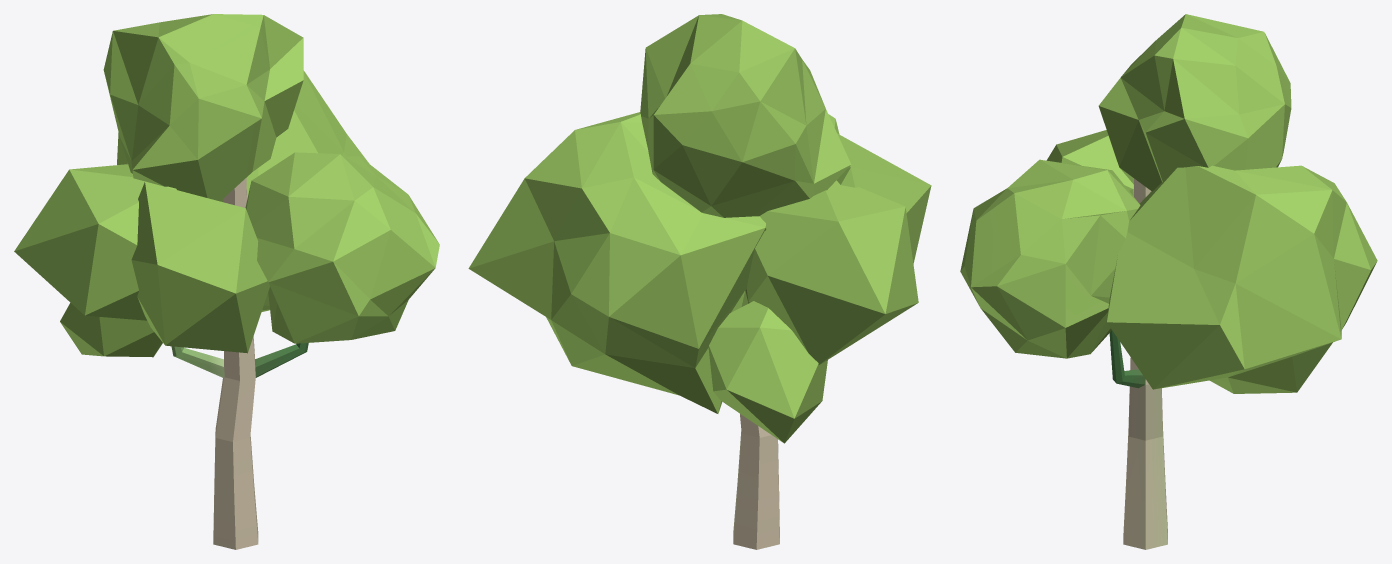
Rendered from tree_h.gltf.
3 renders of one model, left to right at view 1: azimuth 30°, elevation 25°; view 2: azimuth 150°, elevation 25°; view 3: azimuth 270°, elevation 25°, orthographic. The views are drawn at different scales.
Visible parts, largest first — view 1: tree_h001; view 2: tree_h001; view 3: tree_h001.
Part boxes in pixels (left/top/right/bottom): tree_h001: left=14, top=14, right=439, bottom=549; tree_h001: left=468, top=14, right=931, bottom=549; tree_h001: left=960, top=14, right=1377, bottom=549.
Bounding box in the file's own units: 2.28 × 3.13 × 2.32.
Materials: 1 (1 with a texture image).
